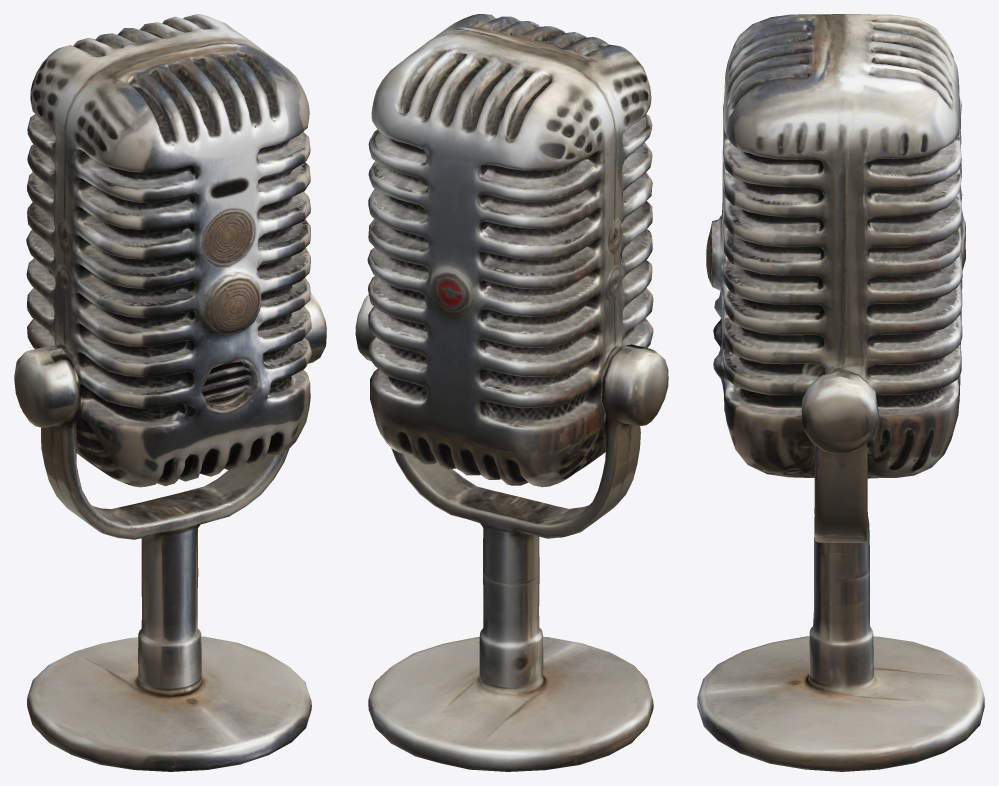
Rendered from mic.glb.
3 renders of one model, left to right at view 1: azimuth 30°, elevation 25°; view 2: azimuth 150°, elevation 25°; view 3: azimuth 270°, elevation 25°, orthographic.
Size of the model in its own units: 0.9084 by 2 by 0.7753.
1 material, 1 textured.
